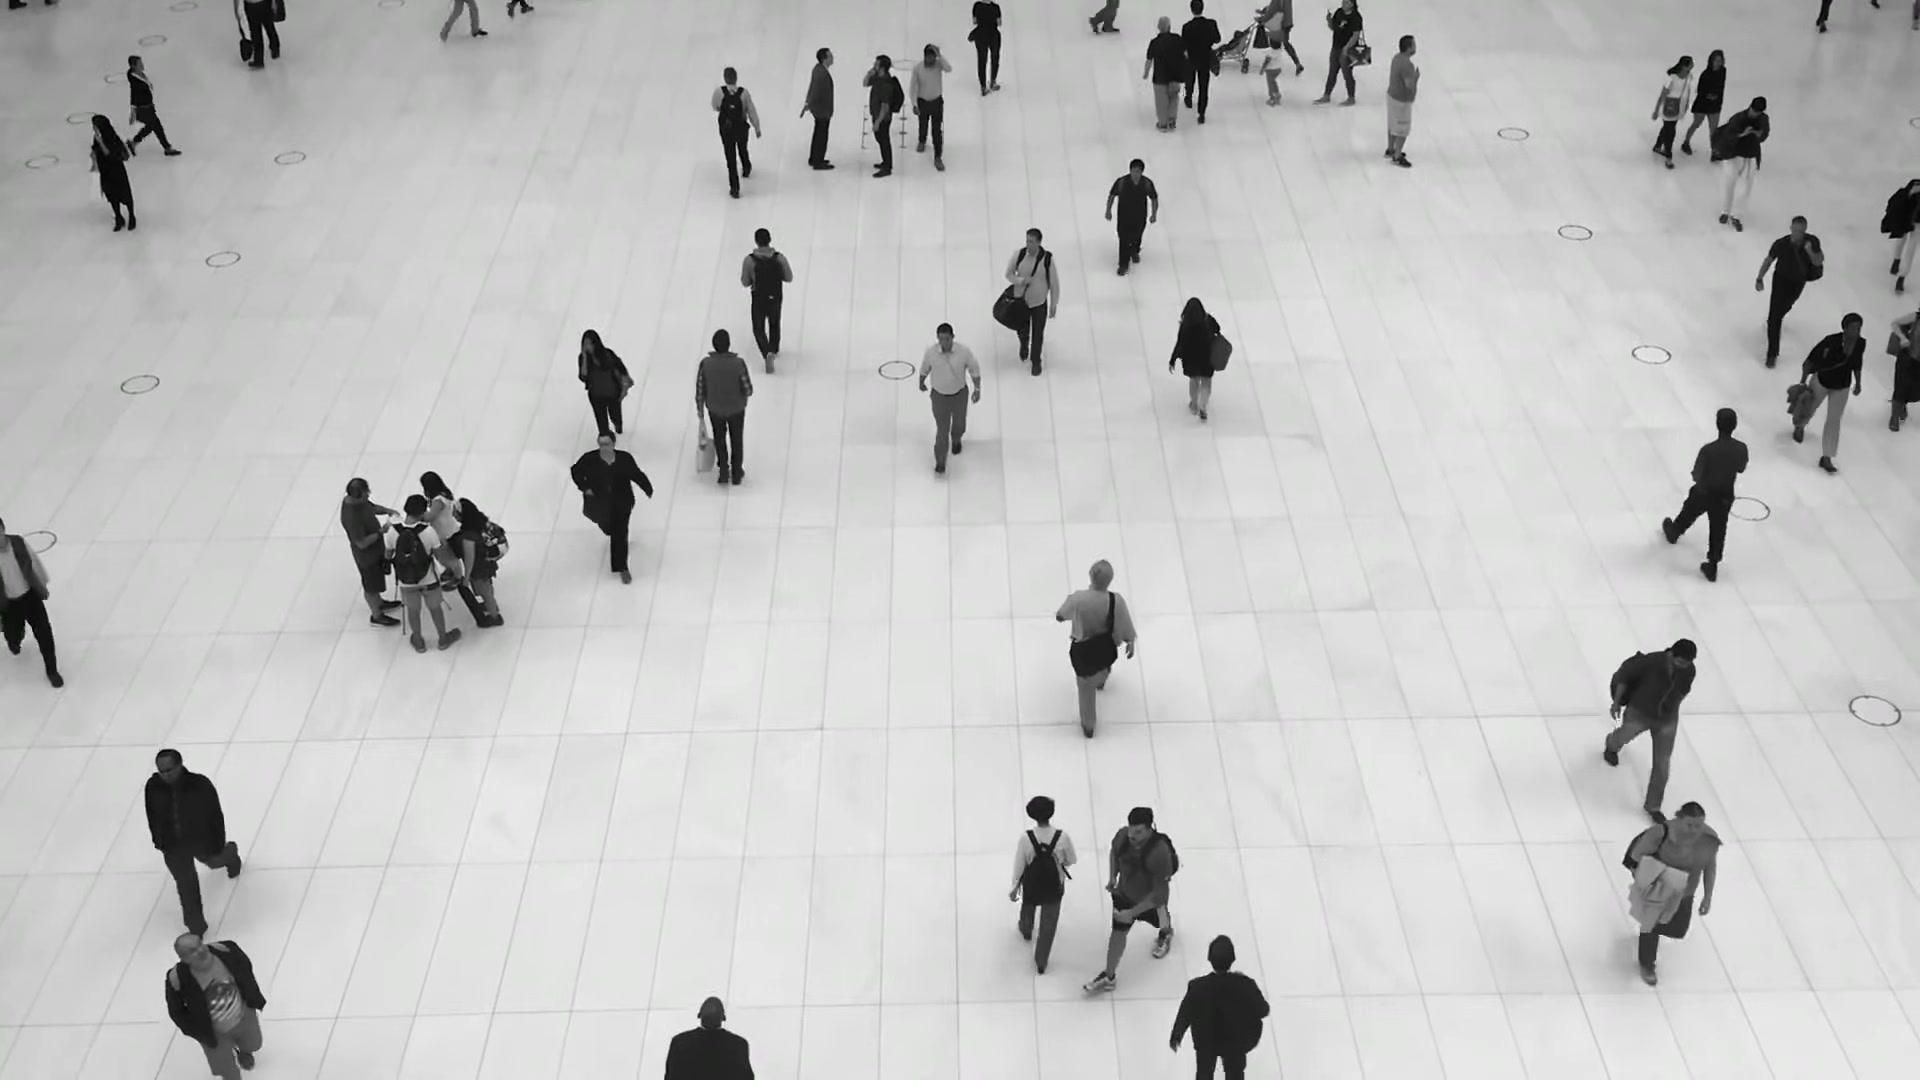person: (144, 746, 240, 935), (1087, 806, 1178, 996), (1603, 635, 1697, 810), (1628, 799, 1717, 981), (163, 929, 266, 1079), (1664, 408, 1749, 587), (1055, 559, 1137, 742), (1171, 936, 1269, 1079), (1790, 310, 1867, 474), (1009, 797, 1078, 981), (570, 428, 653, 580), (385, 494, 461, 652), (1753, 214, 1824, 366), (694, 329, 753, 489), (918, 323, 980, 475), (340, 477, 402, 629), (1710, 96, 1770, 235), (1004, 227, 1058, 374), (741, 228, 793, 371), (704, 67, 757, 199), (452, 497, 504, 627), (1170, 297, 1222, 419), (1104, 159, 1157, 277), (577, 328, 633, 435), (89, 114, 136, 233), (1312, 0, 1364, 109), (1680, 49, 1726, 164), (909, 43, 951, 169), (1143, 17, 1188, 134), (125, 54, 177, 154), (1180, 0, 1221, 124), (861, 56, 902, 180), (1650, 55, 1694, 168), (419, 470, 460, 592), (1383, 34, 1420, 168), (799, 48, 835, 172), (1255, 0, 1303, 75), (970, 0, 1003, 102), (1259, 38, 1283, 106)
